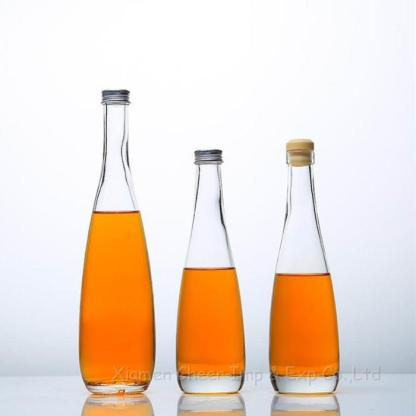Can: (76, 87, 156, 398), (268, 138, 342, 395), (176, 148, 244, 396)
